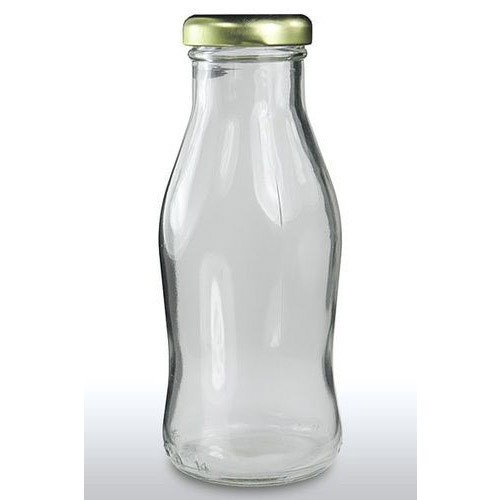container: (154, 7, 349, 496)
